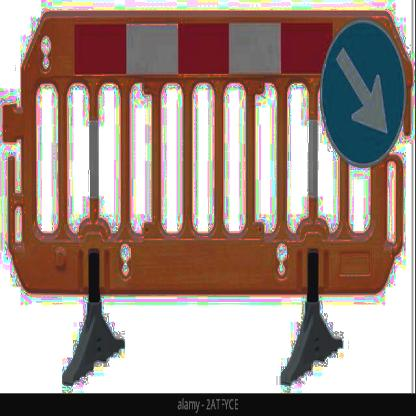Keep right: (322, 23, 408, 169)
